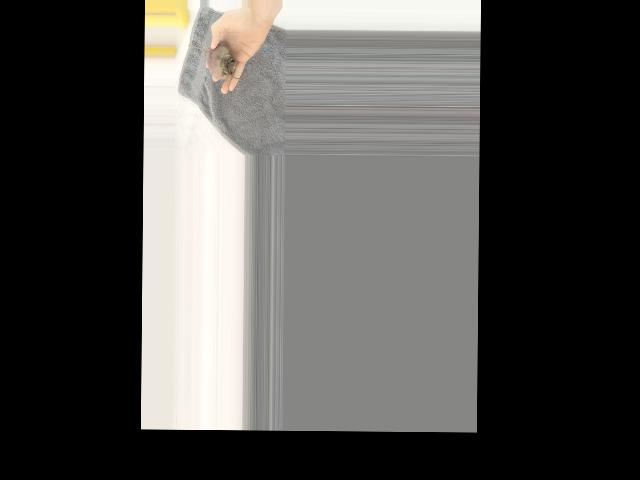beet: (187, 40, 237, 79)
